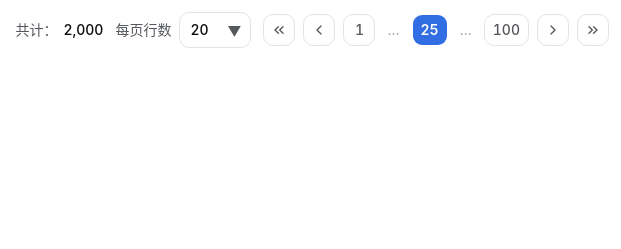
shared pagination › changes page size through the real selector
This screenshot has width=621, height=249.
What coordinates should you click on to do the following:
click the dropdown named "每页行数"
I would click on:
 (215, 30)
Its box is [179,12,251,48].
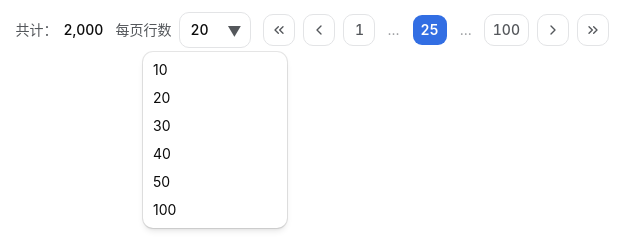
What coordinates should you click on to do the following:
click the option "50"
I would click on:
 (162, 182)
Its box is [153,173,170,190].
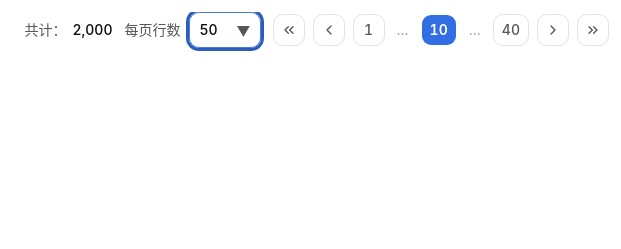
Check: the dropdown named "每页行数" shows "50", box [188,12,260,48]
